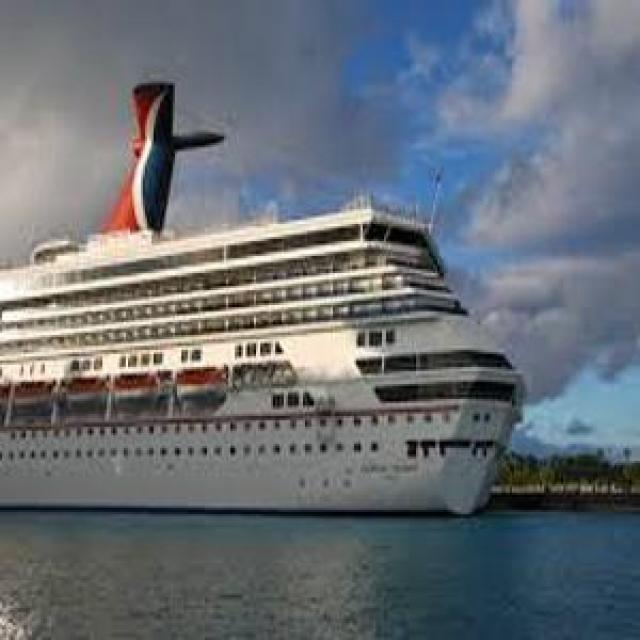passenger ship: (2, 194, 522, 524)
